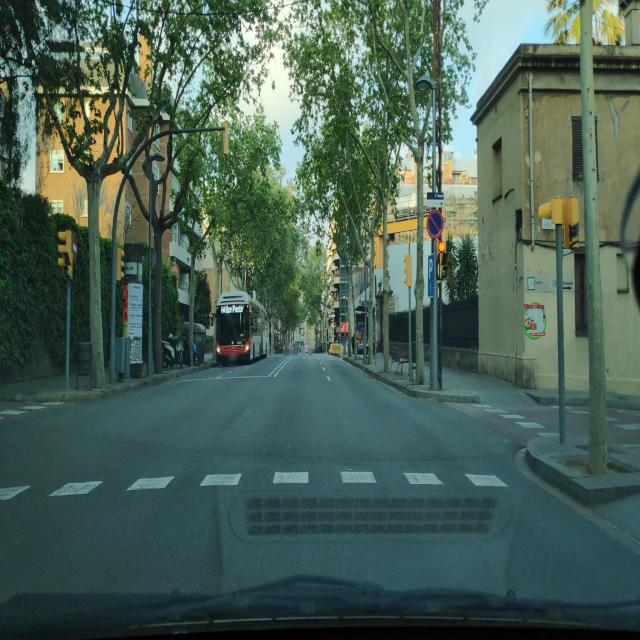forb_stopping: (427, 211, 443, 236)
